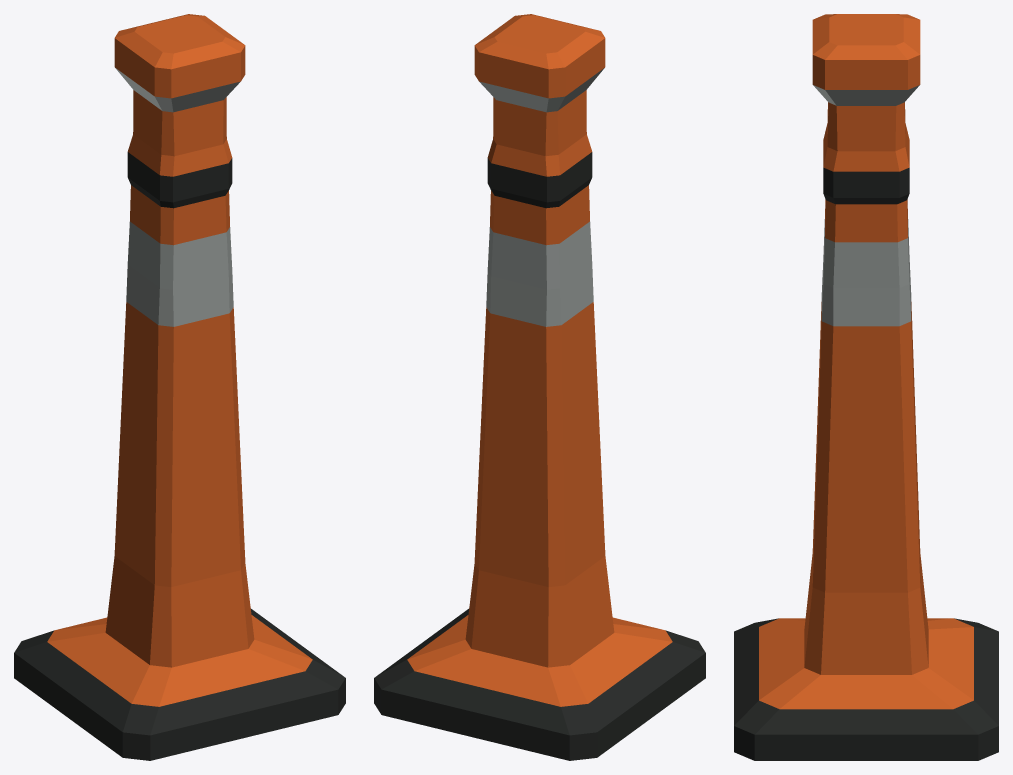
Rendered from pylon.glb.
The picture shows the model from 3 angles, left to right: view 1: azimuth 30°, elevation 25°; view 2: azimuth 150°, elevation 25°; view 3: azimuth 270°, elevation 25°; orthographic projection. The views are drawn at different scales.
Visible parts, largest first — view 1: SM_Construction_Pylon; view 2: SM_Construction_Pylon; view 3: SM_Construction_Pylon.
Part boxes in pixels (x1,y1,x2,y2): SM_Construction_Pylon: (14,14,345,760); SM_Construction_Pylon: (374,14,705,760); SM_Construction_Pylon: (734,14,998,760).
Size of the model in its own units: 0.32 by 0.9 by 0.32.
